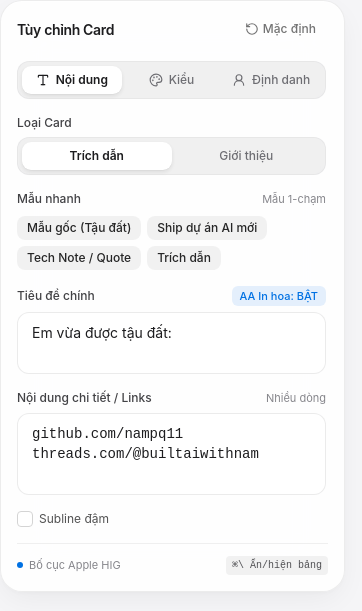
Inspector Showcase Annotations section › adds an annotation bound to its Shot from the per-Shot add control
The width and height of the screenshot is (362, 611).
Step 1. Click the radio button labelled "Giới thiệu" → coordinates (246, 156), box [219, 148, 273, 163]
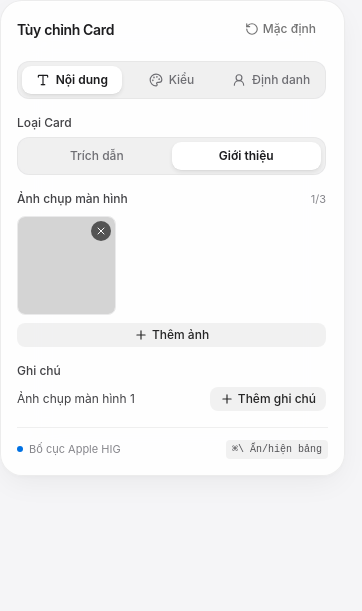
Step 2. Click the button with aria-label "Thêm ghi chú · Ảnh chụp màn hình 1" → coordinates (268, 398), box [210, 386, 326, 410]
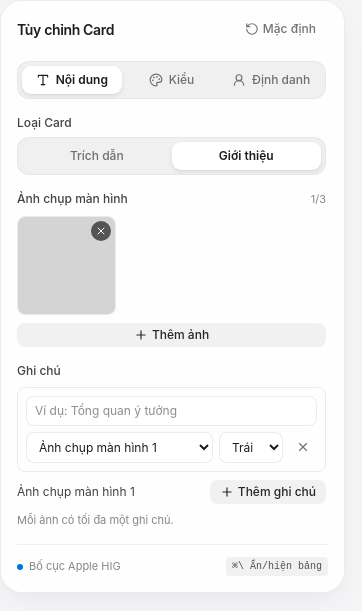
Result: the field named "Nội dung ghi chú" is shown at [26, 396, 317, 426]
